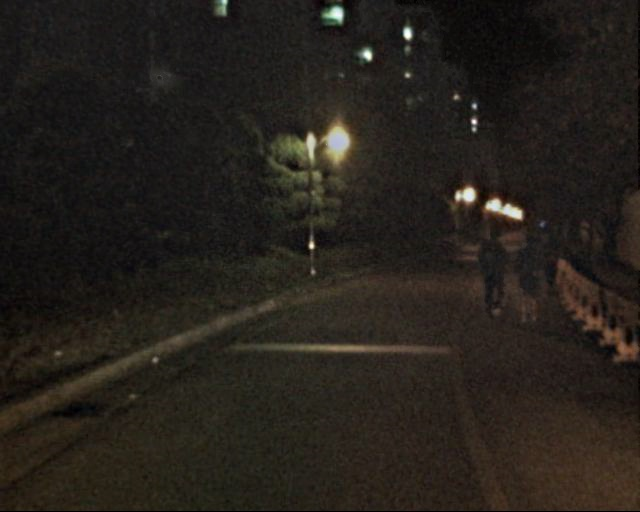person: (469, 229, 508, 324), (505, 234, 543, 327), (534, 232, 559, 294)
